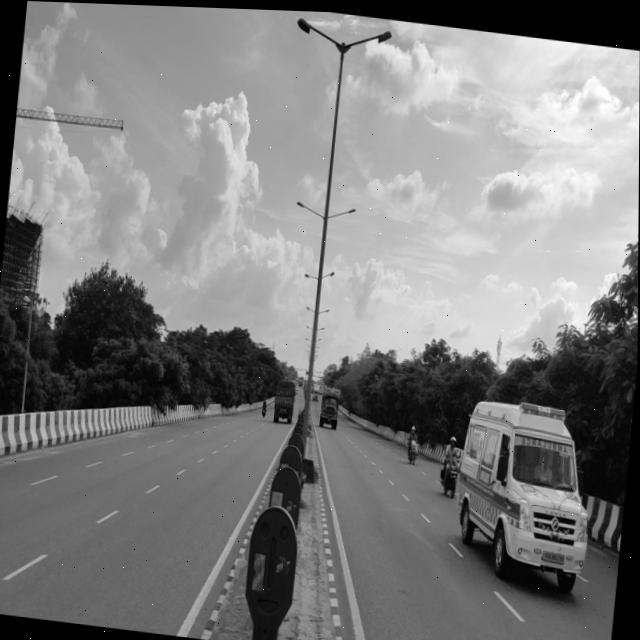truck: (452, 389, 604, 594)
